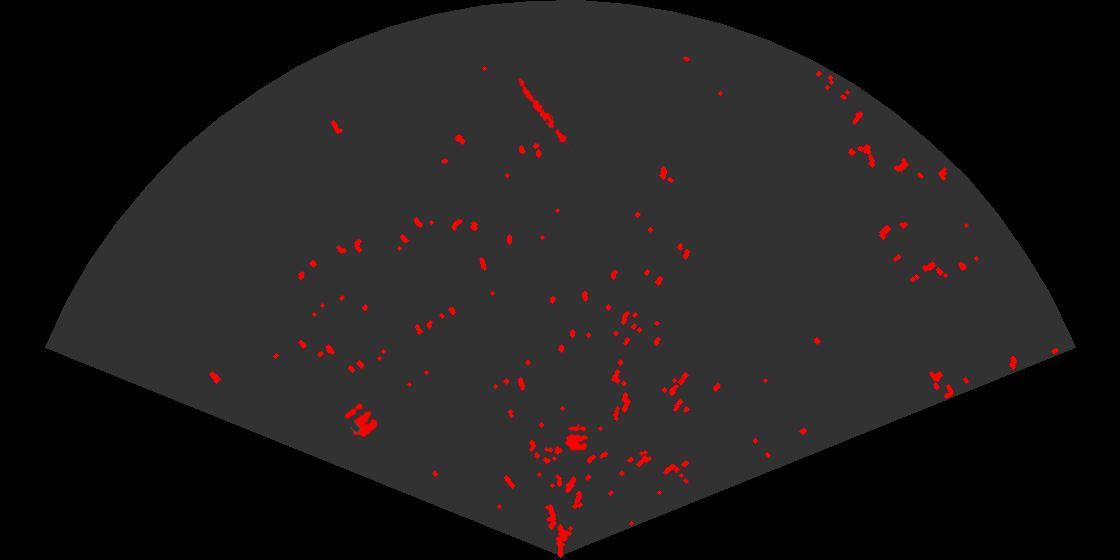ball: (343, 401, 379, 439), (564, 425, 590, 452)
chain: (517, 76, 573, 152)
